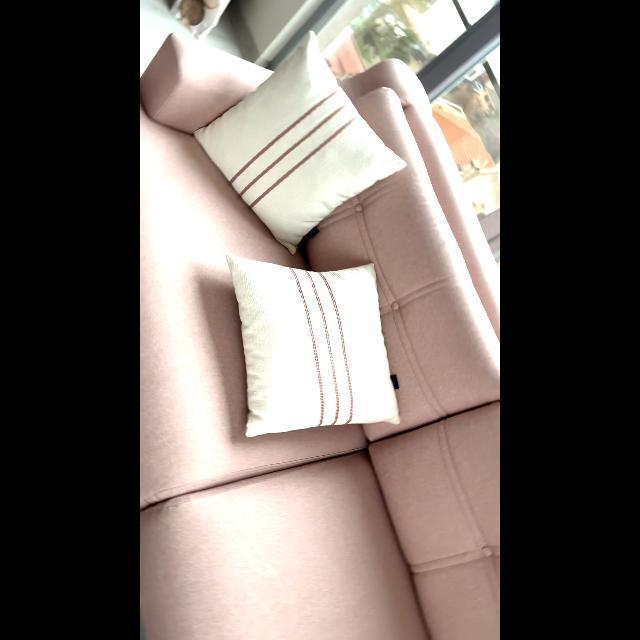throw pillow: (184, 23, 410, 255), (225, 250, 408, 440)
